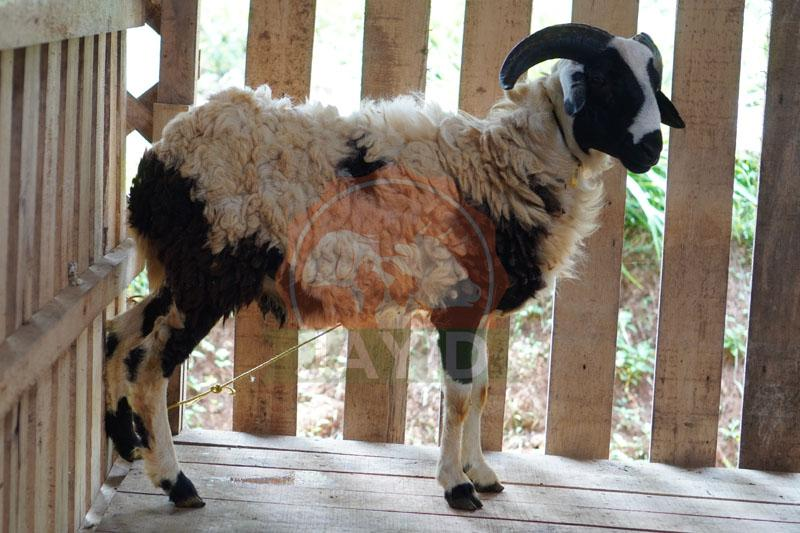Sheep: (498, 7, 683, 193)
